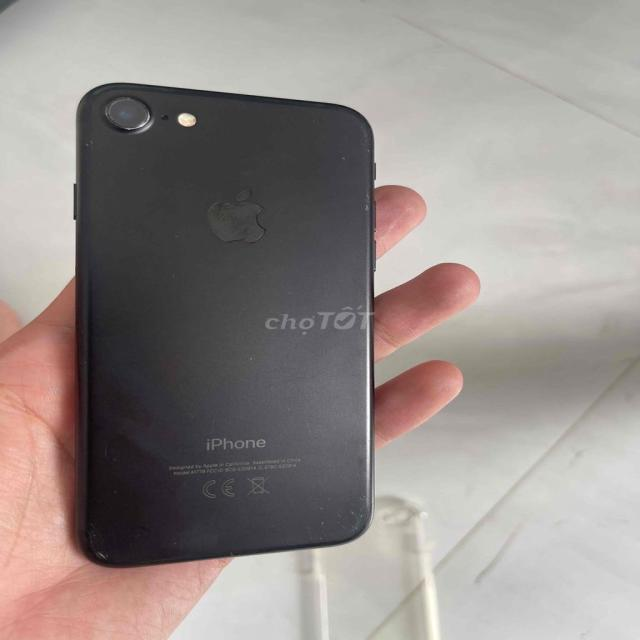gen_7_8: (54, 78, 382, 575)
